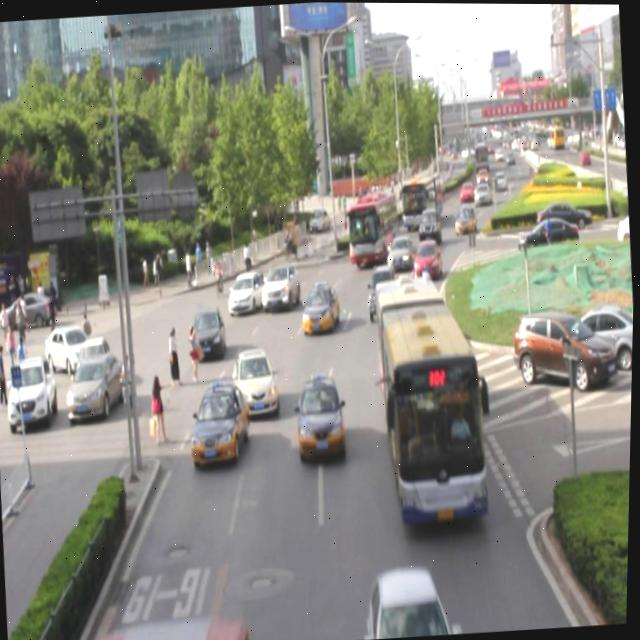car: (367, 562, 448, 639), (187, 381, 254, 464), (295, 375, 349, 460), (232, 346, 281, 416), (378, 288, 417, 351), (260, 259, 303, 314), (300, 283, 341, 337), (191, 306, 229, 363), (367, 262, 399, 316), (228, 269, 266, 314), (412, 237, 443, 279), (386, 233, 417, 268)
van: (371, 274, 495, 527), (346, 192, 403, 268), (89, 615, 252, 640)
